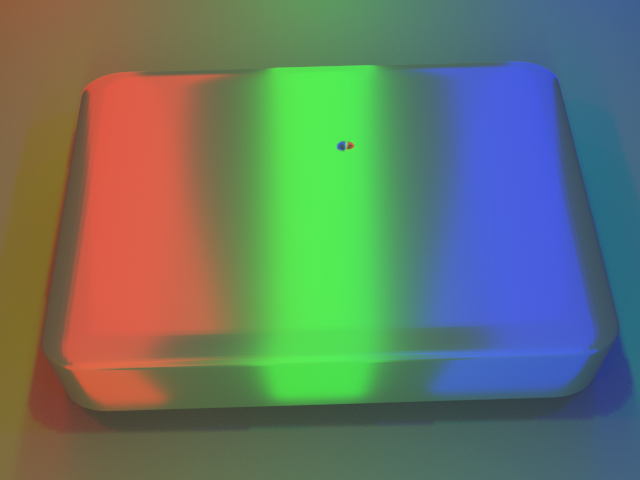dent: (325, 119, 368, 157)
